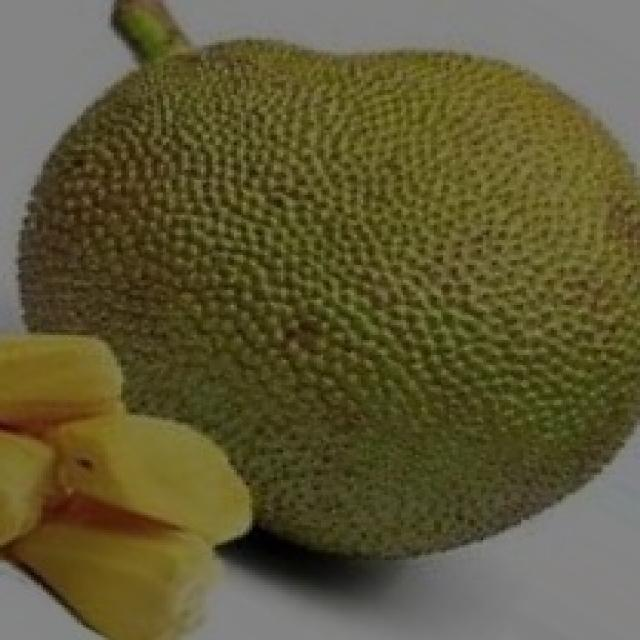Fruit: (0, 15, 394, 377), (280, 15, 640, 385)
